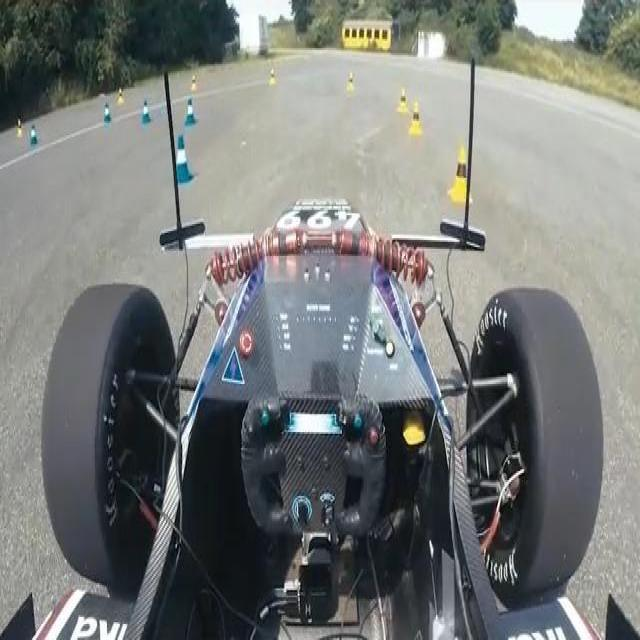blue_cone: (172, 133, 194, 185), (184, 98, 198, 127), (141, 99, 152, 125)
yellow_cone: (447, 144, 474, 204), (408, 101, 424, 137), (397, 84, 410, 114)
